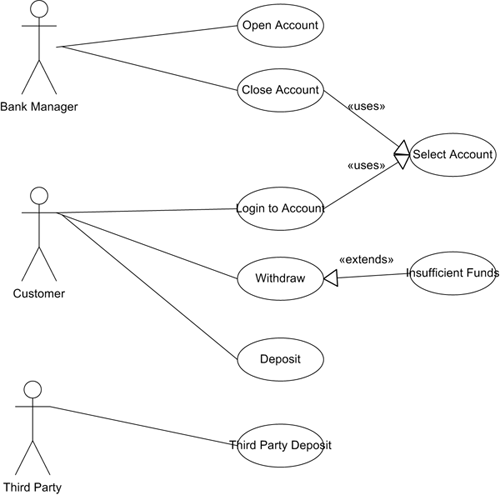actor: (17, 185, 59, 283), (12, 379, 53, 476), (20, 1, 60, 93)
association: (62, 217, 237, 358), (61, 214, 237, 278), (58, 46, 236, 90), (51, 406, 237, 446), (324, 89, 410, 155), (322, 155, 410, 209), (56, 24, 236, 48), (57, 206, 238, 215), (322, 268, 409, 286)
text: (406, 265, 500, 284), (230, 437, 333, 454), (239, 82, 320, 99), (234, 201, 325, 216), (412, 146, 493, 161), (332, 250, 398, 268), (1, 99, 78, 114), (253, 268, 308, 289), (241, 19, 319, 33), (1, 480, 66, 495), (6, 287, 69, 302), (259, 350, 302, 367), (346, 100, 389, 114), (344, 158, 386, 172)
use_case: (237, 185, 325, 232), (410, 251, 499, 297), (236, 337, 324, 383), (237, 3, 325, 48), (234, 256, 324, 300), (237, 423, 325, 468), (237, 68, 323, 113), (411, 132, 497, 177)
